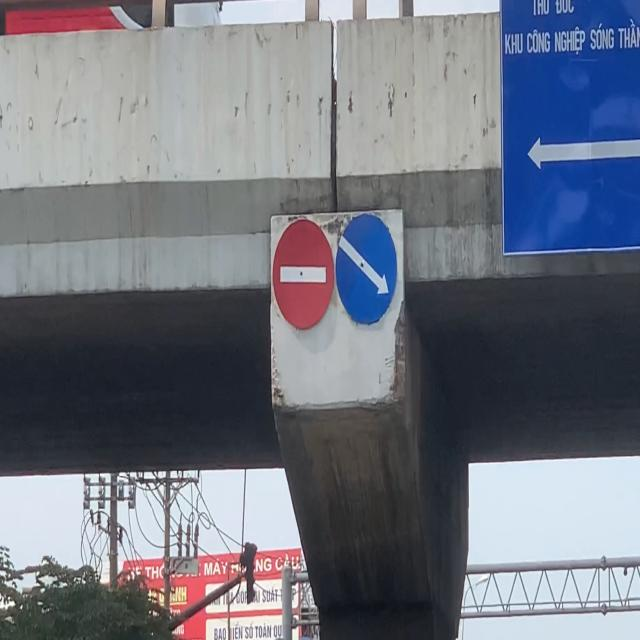Cam nguoc chieu: (272, 219, 335, 330)
Hieu lenh: (336, 212, 398, 325)
